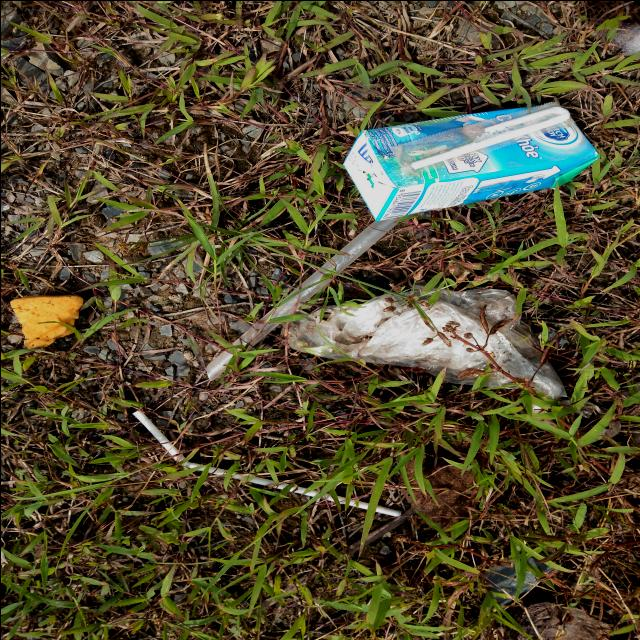Drink carton: (342, 104, 598, 221)
Other plastic bottle: (9, 294, 82, 349)
Plastic film: (390, 100, 574, 177)
Plastic straw: (206, 216, 400, 381), (131, 410, 401, 517), (411, 105, 569, 169)
